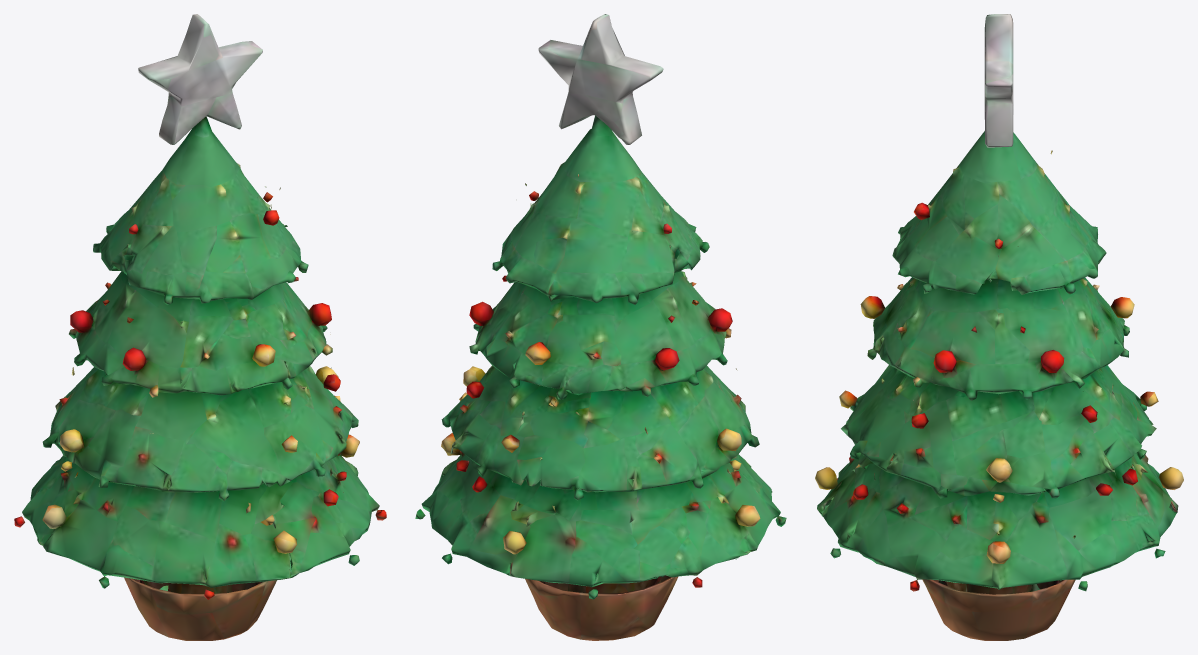
The picture shows the model from 3 angles, left to right: view 1: azimuth 30°, elevation 25°; view 2: azimuth 150°, elevation 25°; view 3: azimuth 270°, elevation 25°; orthographic projection.
Bounding box in the file's own units: 1.05 × 1.9 × 1.05.
Materials: 1 (1 with a texture image).
